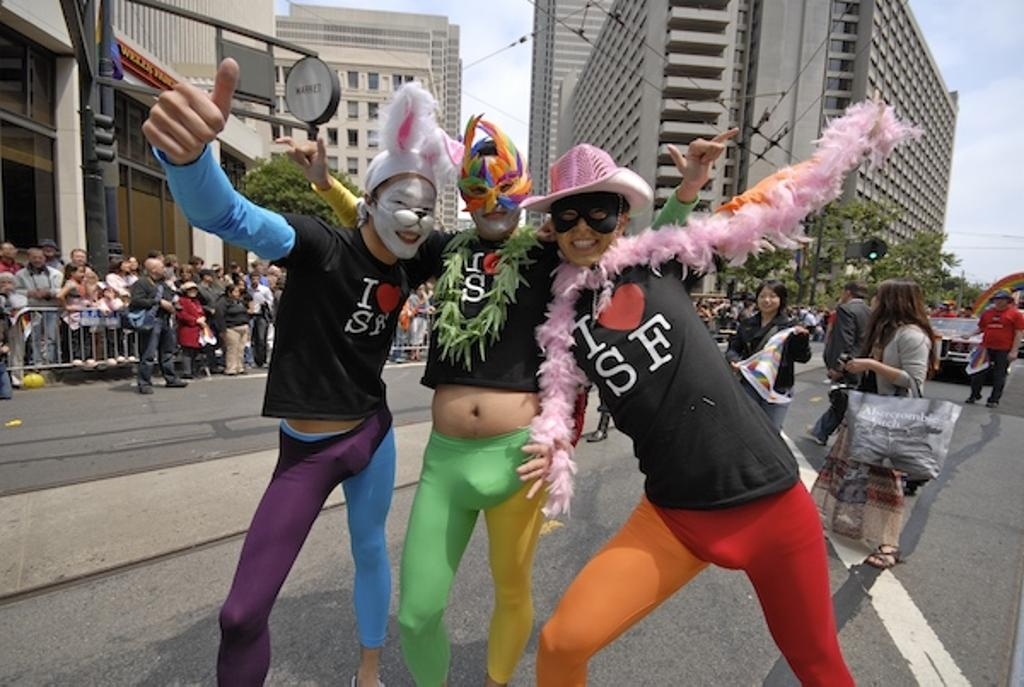human_face: (552, 192, 618, 265), (375, 186, 435, 260), (466, 160, 522, 238), (758, 288, 780, 312), (30, 250, 44, 268), (994, 296, 1010, 308), (154, 260, 166, 276), (0, 277, 11, 293), (42, 245, 56, 257), (73, 252, 87, 264), (74, 265, 84, 280), (230, 286, 240, 300), (2, 242, 12, 256), (840, 286, 850, 300), (154, 254, 166, 264), (170, 256, 180, 268), (180, 268, 190, 280), (212, 265, 222, 277), (416, 283, 424, 297), (187, 287, 197, 297), (203, 272, 213, 282), (122, 260, 130, 272), (128, 258, 136, 270), (195, 261, 203, 273), (237, 280, 245, 292), (104, 290, 114, 298), (250, 276, 258, 286), (256, 264, 264, 274), (271, 268, 281, 276), (270, 276, 276, 288), (234, 264, 240, 270), (250, 270, 256, 276)
